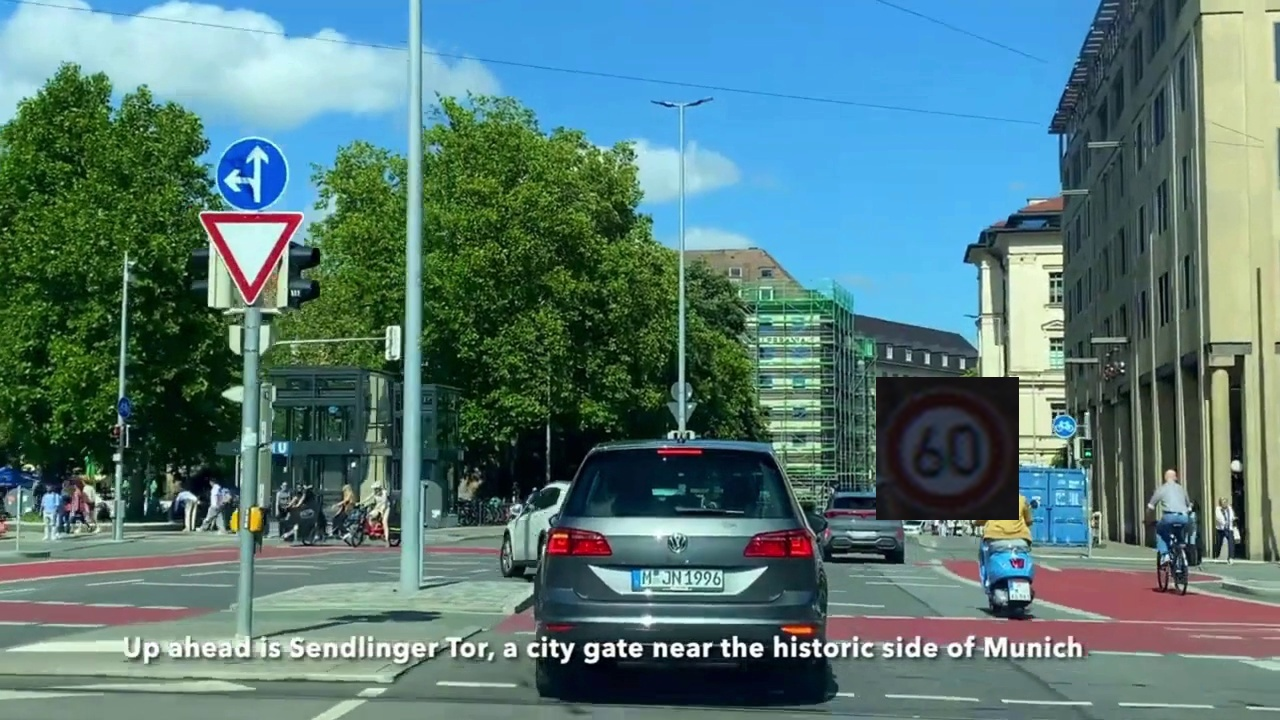Speed 60: (876, 377, 1019, 520)
